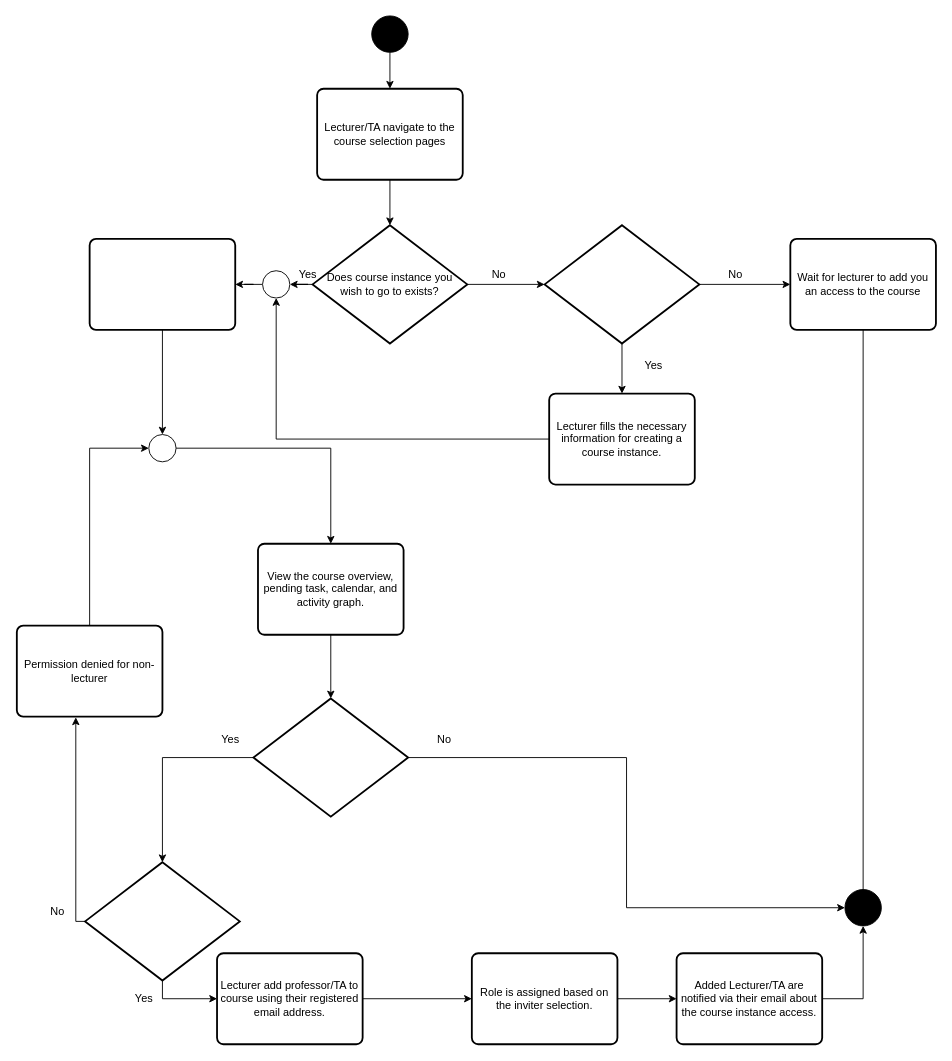
Some shapes in this 952 by 1061 pixel diagram are drawn without their labels. The shapes that lost their labels are listed below. From the top down, each one's centre as x and y in pixels, then its label:
At [162,284]: "Navigate to the selected course instances.".
At [621,284]: "Are you creating the course instance?".
At [330,757]: "Are you adding additional people to the course?".
At [162,921]: "Are you a lecturer/instance owner?".
